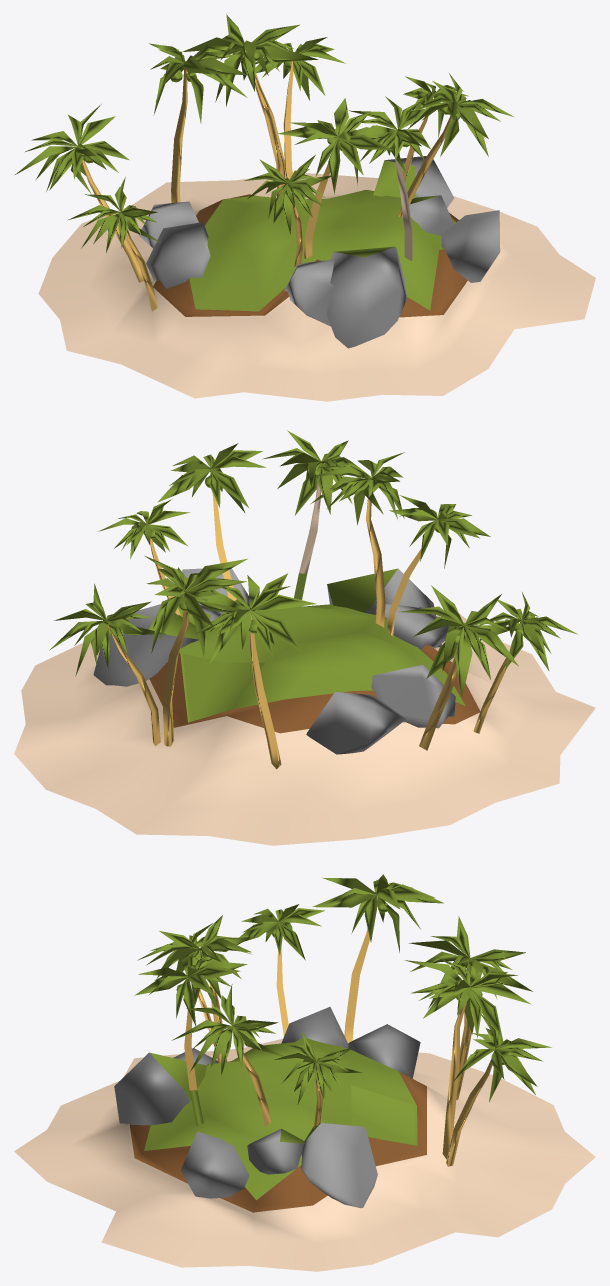
File: Island.gltf
3 views of the same model, one above another, from view 1: azimuth 30°, elevation 25°; view 2: azimuth 150°, elevation 25°; view 3: azimuth 270°, elevation 25° (orthographic). The views are drawn at different scales.
Visible parts, largest first — view 1: Island_node; view 2: Island_node; view 3: Island_node.
Boxes of the visible parts, x1=… form: Island_node: x1=15, y1=14, x2=595, y2=401; Island_node: x1=14, y1=430, x2=595, y2=845; Island_node: x1=14, y1=874, x2=595, y2=1271.
Bounding box in the file's own units: 104 × 44.33 × 107.
